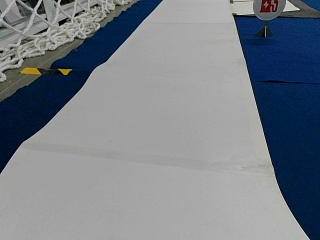battery: (252, 0, 287, 20)
